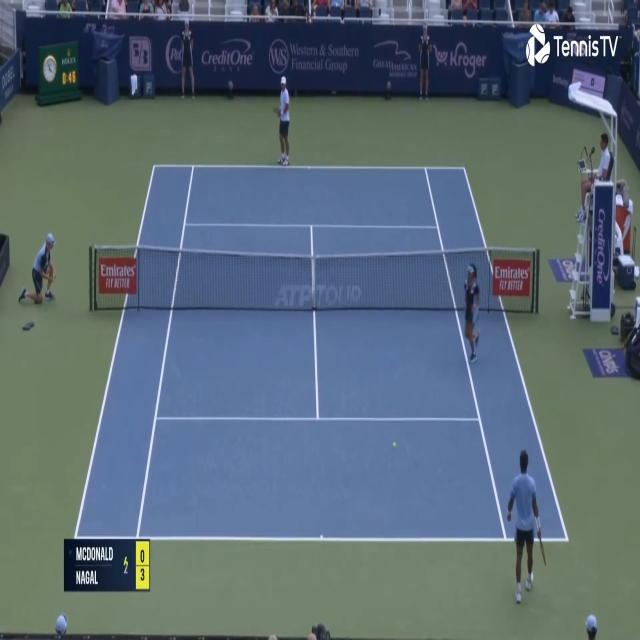tennis-player: (506, 446, 546, 606), (270, 74, 294, 168)
